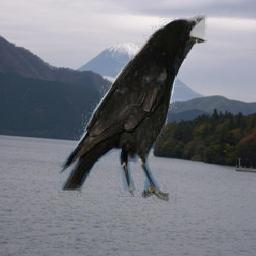Crow: (58, 12, 208, 204)
